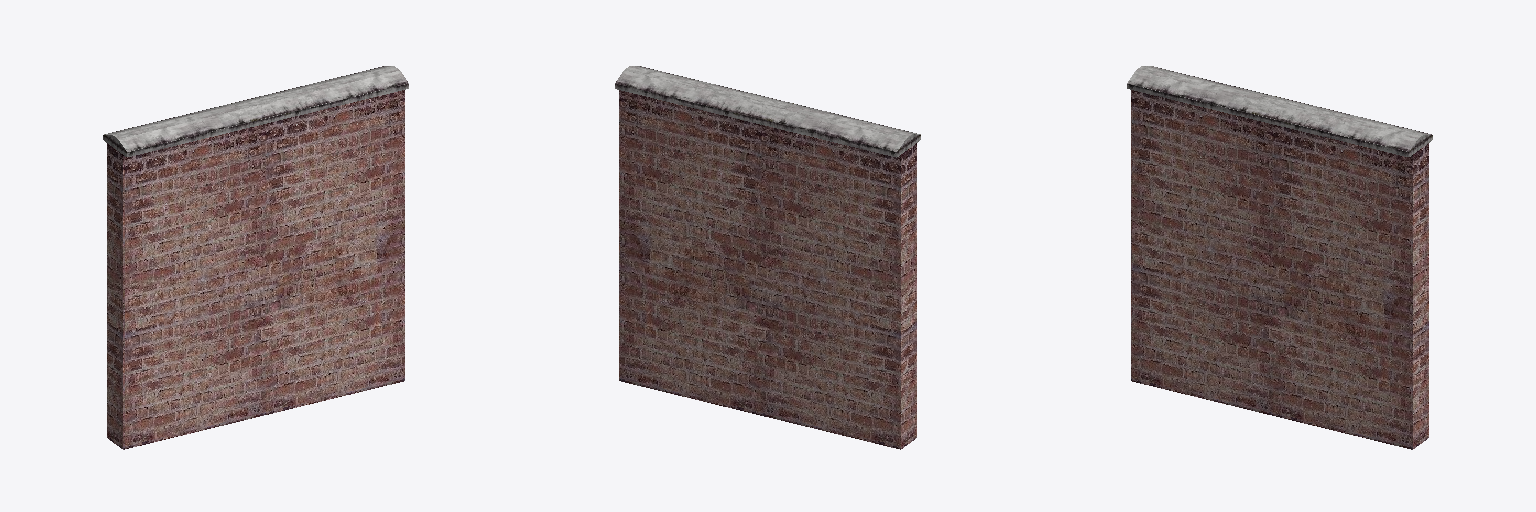
3 renders of one model, left to right at view 1: azimuth 30°, elevation 25°; view 2: azimuth 150°, elevation 25°; view 3: azimuth 330°, elevation 25°, orthographic.
Visible parts, largest first — view 1: brick_wall_small; view 2: brick_wall_small; view 3: brick_wall_small.
Boxes of the visible parts, <box> form: brick_wall_small: <box>103,66,408,449</box>; brick_wall_small: <box>615,66,920,449</box>; brick_wall_small: <box>1127,66,1432,449</box>.
Size of the model in its own units: 2 by 2.08 by 0.2996.
Materials: 2 (2 with a texture image).